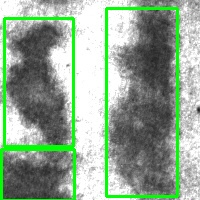patches: (106, 8, 177, 196), (4, 18, 73, 146), (1, 149, 74, 200)
